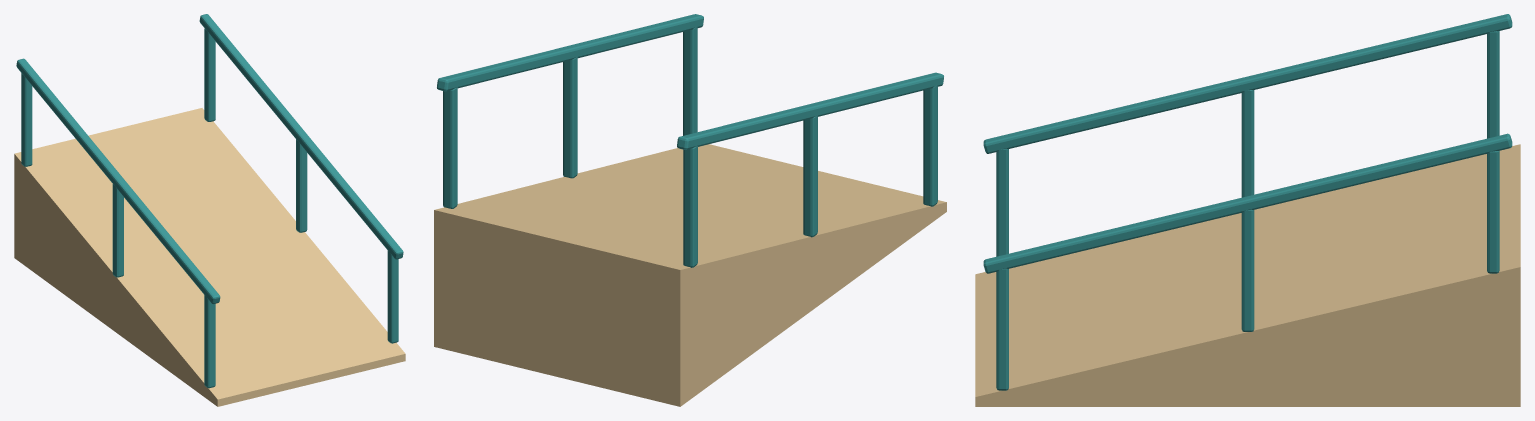
Rendered from S015_access_ramp.glb.
3 views of the same model, side by side, from view 1: azimuth 30°, elevation 25°; view 2: azimuth 150°, elevation 25°; view 3: azimuth 270°, elevation 25° (orthographic). The views are drawn at different scales.
Parts seen in each view (by area): view 1: plywood_ramp, ramp_rail, ramp_rail.001, ramp_post.003, ramp_post.001, ramp_post, ramp_post.005, ramp_post.002, ramp_post.004; view 2: plywood_ramp, ramp_rail.001, ramp_rail, ramp_post.005, ramp_post.002, ramp_post.001, ramp_post.004, ramp_post, ramp_post.003; view 3: plywood_ramp, ramp_rail, ramp_rail.001, ramp_post.004, ramp_post.005, ramp_post.003, ramp_post.001, ramp_post, ramp_post.002.
Part boxes in pixels (x1=…): plywood_ramp: x1=14, y1=108, x2=405, y2=406; ramp_rail: x1=16, y1=58, x2=220, y2=303; ramp_rail.001: x1=199, y1=14, x2=403, y2=259; ramp_post.003: x1=387, y1=250, x2=398, y2=343; ramp_post.001: x1=112, y1=184, x2=123, y2=277; ramp_post: x1=204, y1=295, x2=215, y2=388; ramp_post.005: x1=204, y1=28, x2=215, y2=121; ramp_post.002: x1=21, y1=73, x2=32, y2=166; ramp_post.004: x1=296, y1=139, x2=307, y2=232; plywood_ramp: x1=434, y1=144, x2=946, y2=406; ramp_rail.001: x1=437, y1=14, x2=703, y2=91; ramp_rail: x1=677, y1=72, x2=943, y2=149; ramp_post.005: x1=443, y1=87, x2=457, y2=208; ramp_post.002: x1=683, y1=146, x2=697, y2=267; ramp_post.001: x1=803, y1=115, x2=817, y2=237; ramp_post.004: x1=563, y1=57, x2=577, y2=178; ramp_post: x1=923, y1=85, x2=937, y2=206; ramp_post.003: x1=683, y1=27, x2=697, y2=135; plywood_ramp: x1=975, y1=144, x2=1520, y2=406; ramp_rail: x1=983, y1=14, x2=1512, y2=153; ramp_rail.001: x1=983, y1=133, x2=1512, y2=273; ramp_post.004: x1=1241, y1=209, x2=1254, y2=331; ramp_post.005: x1=1487, y1=151, x2=1499, y2=273; ramp_post.003: x1=996, y1=268, x2=1008, y2=390; ramp_post.001: x1=1241, y1=90, x2=1254, y2=197; ramp_post: x1=996, y1=148, x2=1008, y2=256; ramp_post.002: x1=1487, y1=31, x2=1499, y2=138.
Size of the model in its own units: 1.63 by 1.64 by 3.
